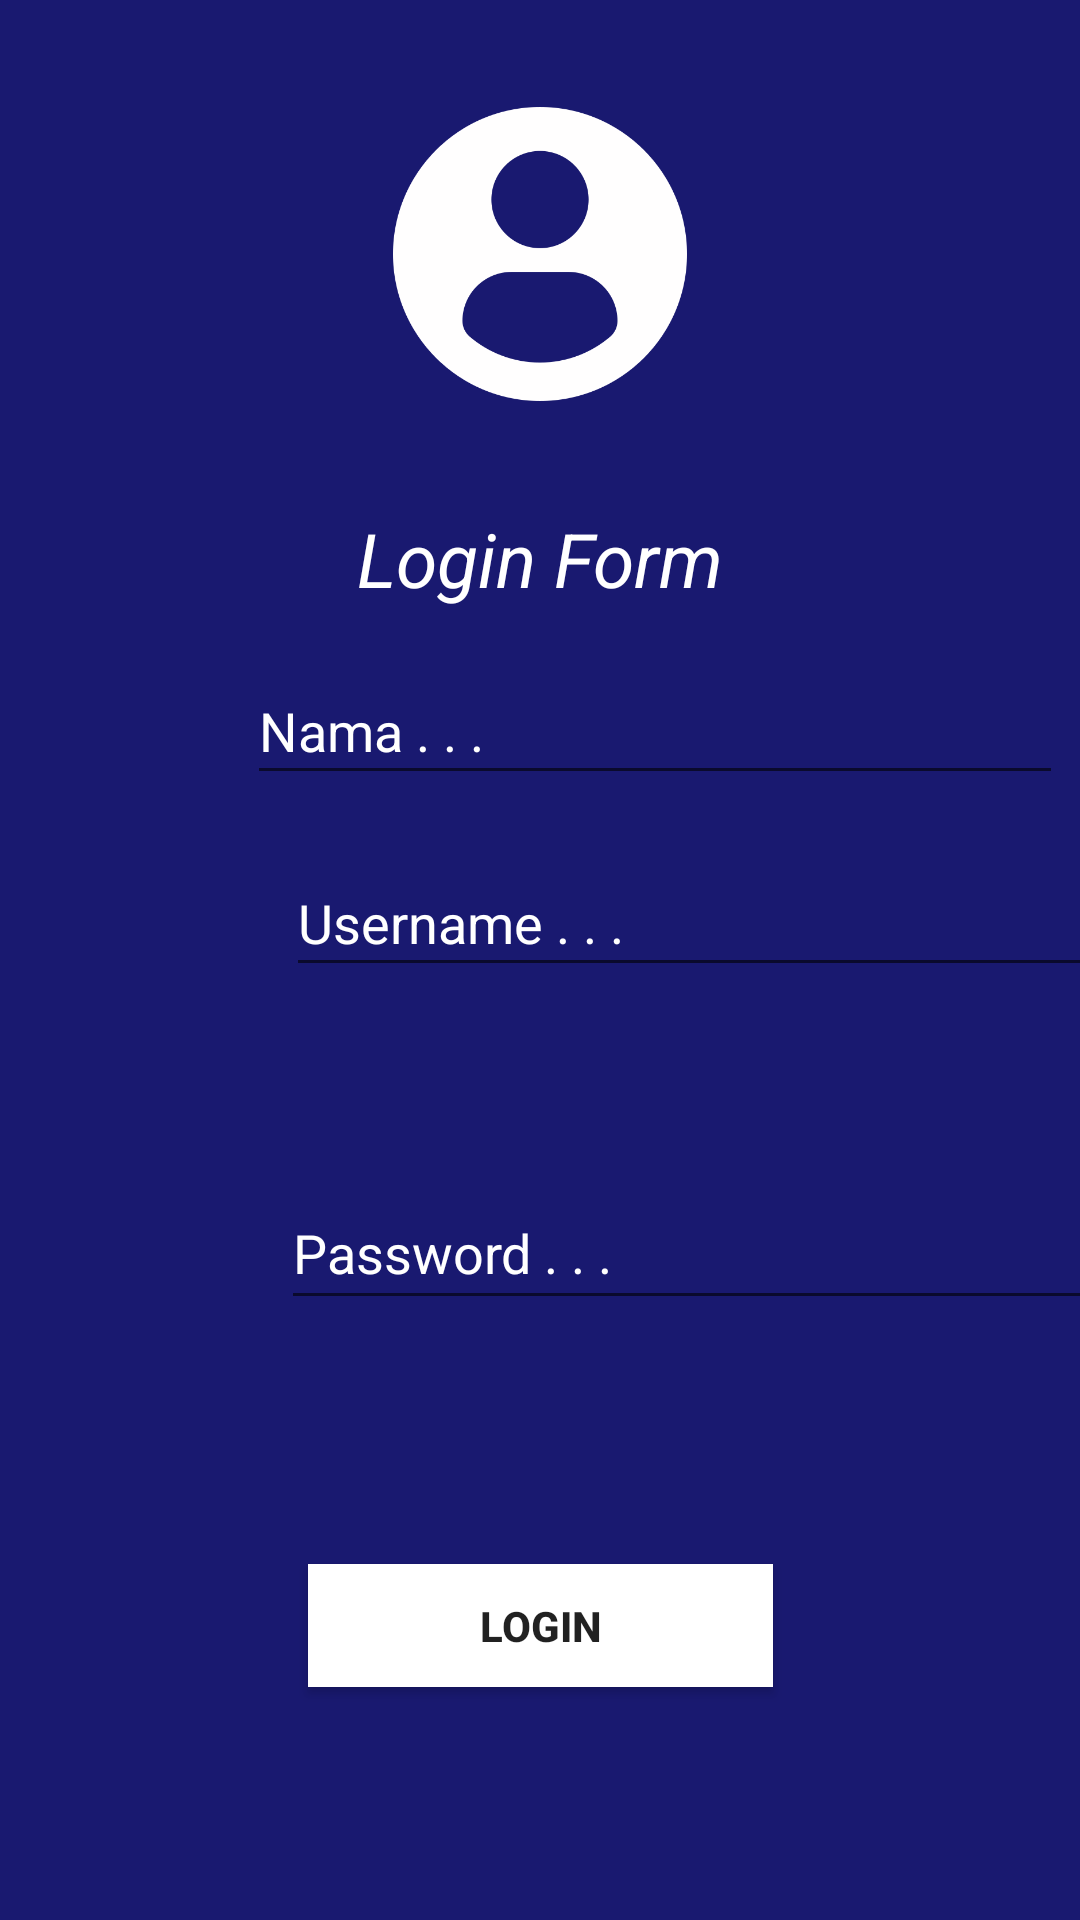

Point at icon controls on the screen. Image size 1080px x 1920px, points as (x,y).
user: (540,254)
